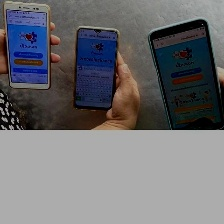phone: (143, 12, 224, 137), (69, 22, 123, 114), (2, 0, 52, 91)
